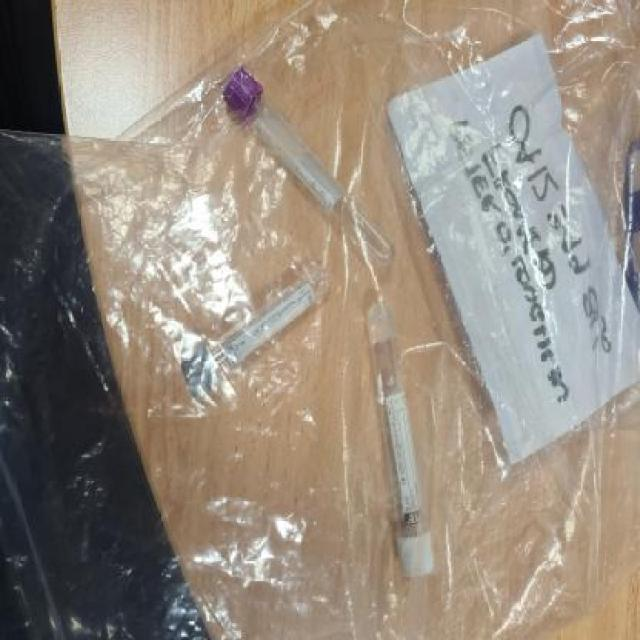Experimental-tube: (224, 68, 396, 272), (182, 262, 332, 402), (367, 300, 436, 580)
